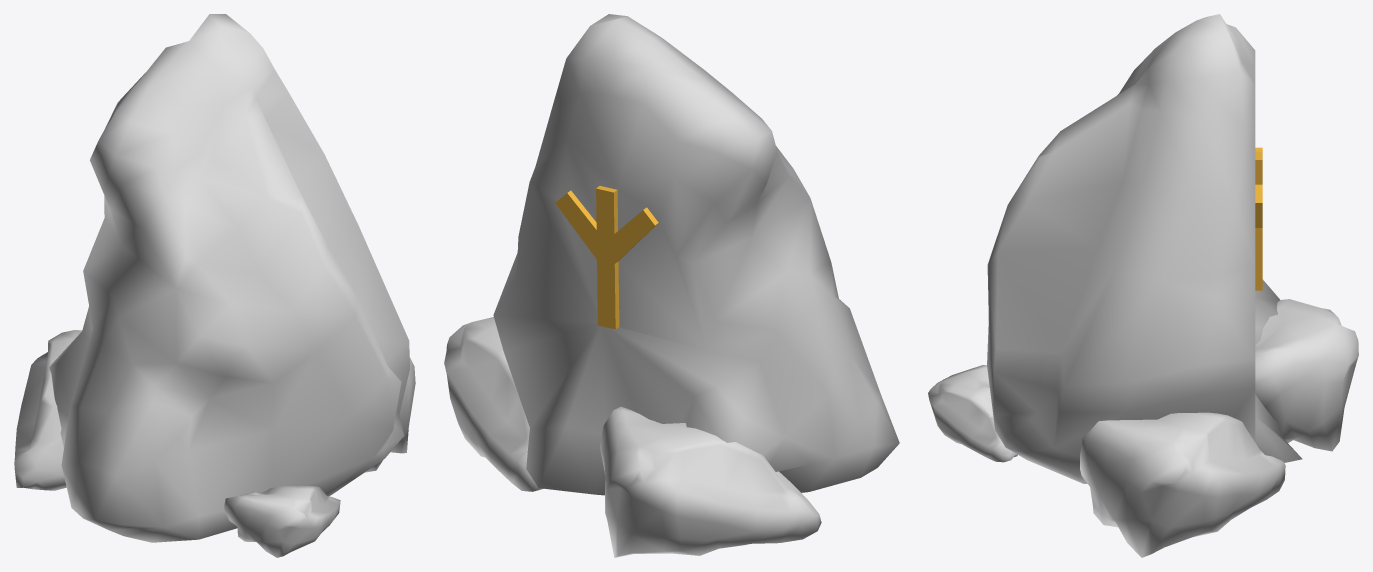
The model's file is Algiz.fbx.
3 views of the same model, side by side, from view 1: azimuth 30°, elevation 25°; view 2: azimuth 150°, elevation 25°; view 3: azimuth 270°, elevation 25° (orthographic). The views are drawn at different scales.
Visible parts, largest first — view 1: Stone; view 2: Stone, Algiz; view 3: Stone, Algiz.
Part boxes in pixels (x1=…): Stone: x1=14, y1=14, x2=415, y2=557; Stone: x1=444, y1=14, x2=899, y2=557; Algiz: x1=555, y1=186, x2=658, y2=329; Stone: x1=928, y1=14, x2=1358, y2=557; Algiz: x1=1255, y1=147, x2=1262, y2=290.
Size of the model in its own units: 155 by 181 by 152.
